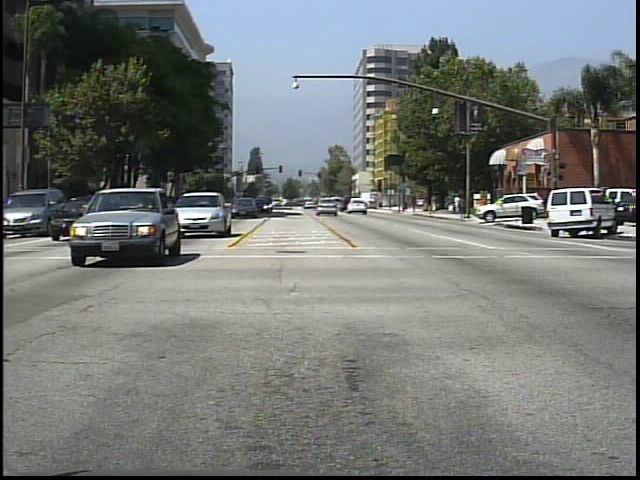person: (428, 192, 441, 215), (454, 192, 465, 219)
